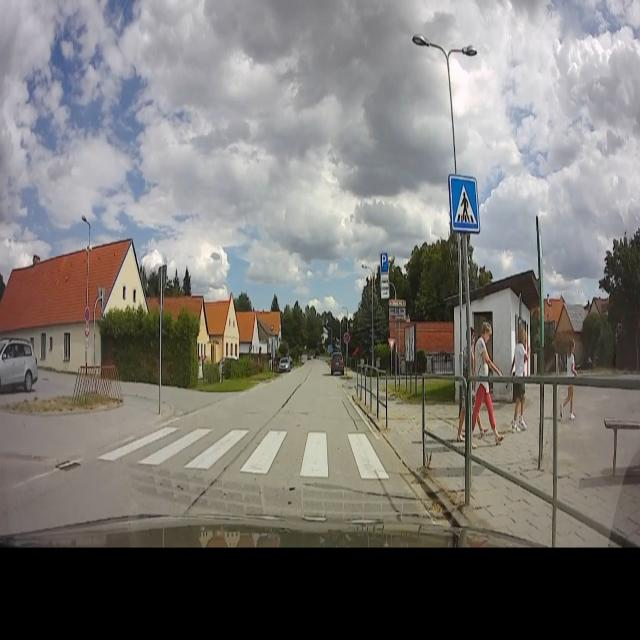Pedestrian crosswalk: (448, 172, 481, 234)
Person: (471, 308, 503, 451), (456, 319, 480, 440), (511, 309, 534, 433), (557, 332, 585, 422)
